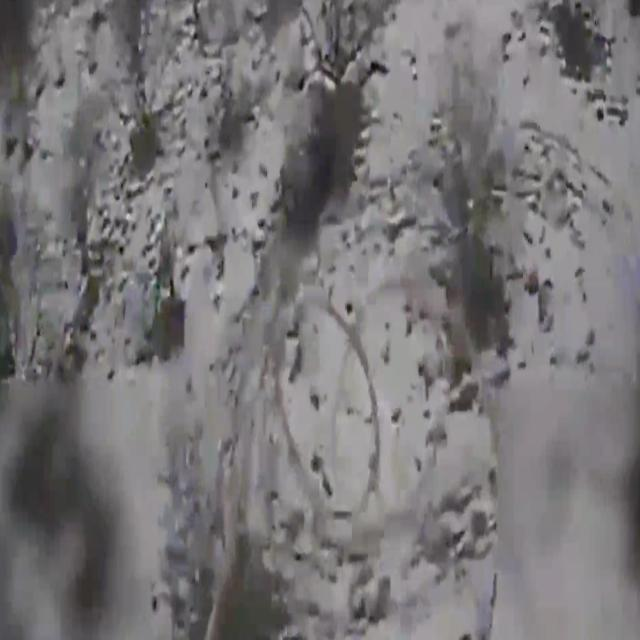vehicle: (278, 105, 346, 234)
